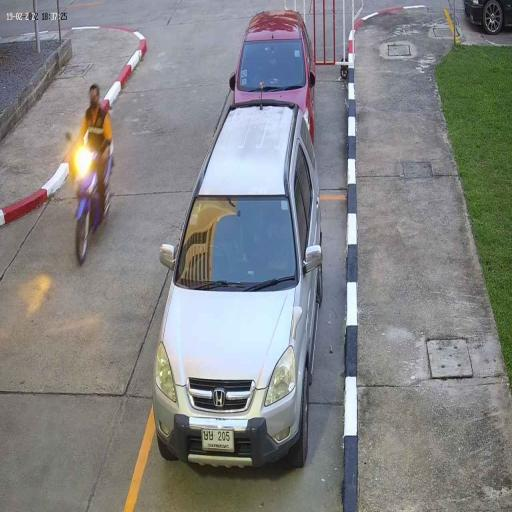car: (150, 98, 324, 478), (227, 7, 318, 113)
motorcycle: (71, 145, 113, 267)
